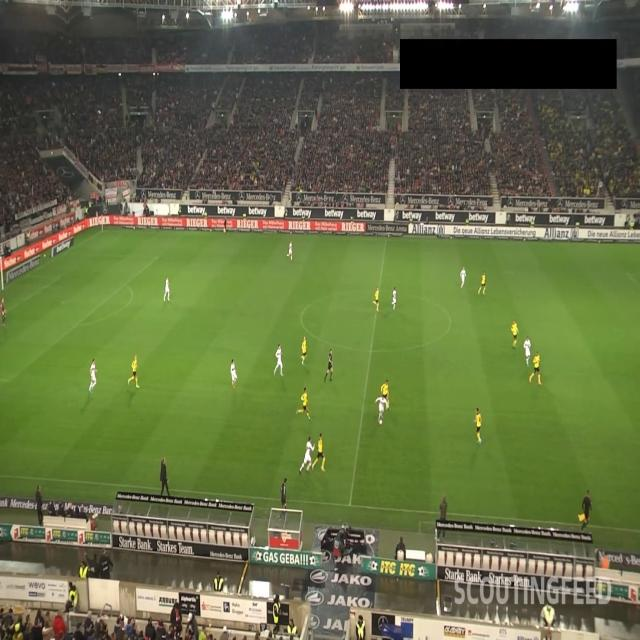ball: (379, 419, 383, 425)
